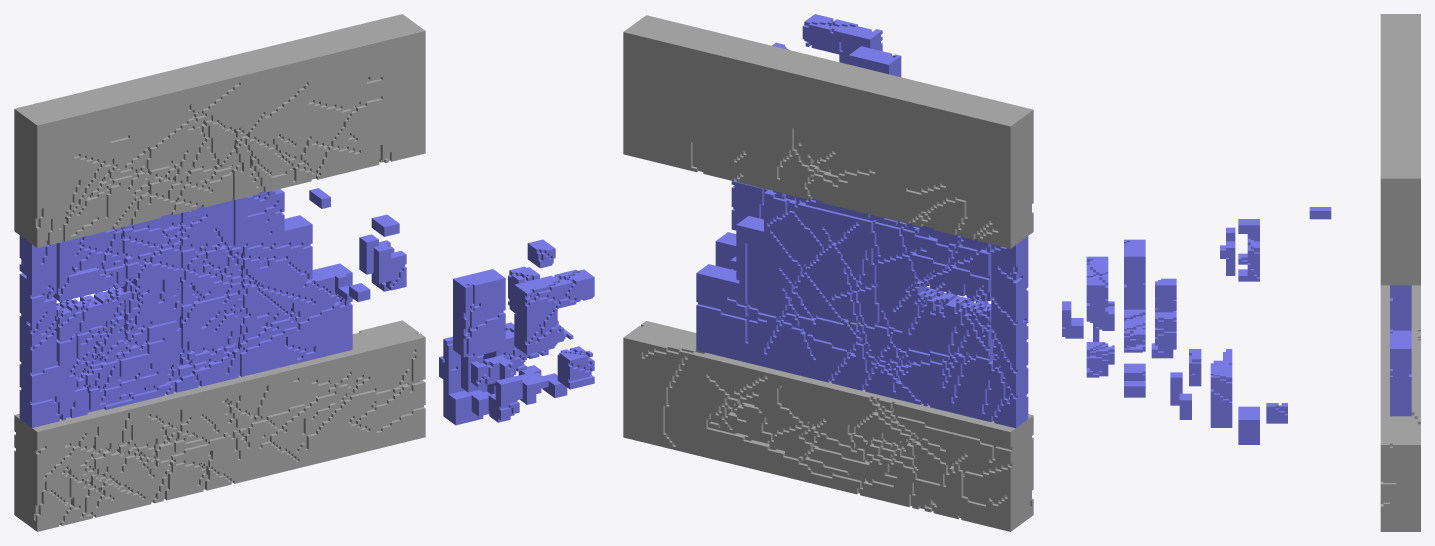
File: Operating_room_Window1-3-1.fbx
3 renders of one model, left to right at view 1: azimuth 30°, elevation 25°; view 2: azimuth 150°, elevation 25°; view 3: azimuth 270°, elevation 25°, orthographic. The views are drawn at different scales.
Visible parts, largest first — view 1: Operating room Window1-3-1.003, Operating room Window1-3-1.002, Operating room Window1-3-1.001, Operating room Window1-3-1.013, Operating room Window1-3-1.019, Operating room Window1-3-1.017, Operating room Window1-3-1.027, Operating room Window1-3-1.007, Operating room Window1-3-1.011, Operating room Window1-3-1.012, Operating room Window1-3-1.008; view 2: Operating room Window1-3-1.003, Operating room Window1-3-1.002, Operating room Window1-3-1.001, Operating room Window1-3-1.019, Operating room Window1-3-1.017, Operating room Window1-3-1.013, Operating room Window1-3-1.025, Operating room Window1-3-1.014; view 3: Operating room Window1-3-1.003, Operating room Window1-3-1.001, Operating room Window1-3-1.013, Operating room Window1-3-1.002, Operating room Window1-3-1.017, Operating room Window1-3-1.019, Operating room Window1-3-1.026, Operating room Window1-3-1.025, Operating room Window1-3-1.027, Operating room Window1-3-1.008, Operating room Window1-3-1.011, Operating room Window1-3-1.022 (+3 smaller).
Boxes of the visible parts, x1,y1,x2,y2 form: Operating room Window1-3-1.003: (14, 14, 425, 247); Operating room Window1-3-1.002: (19, 189, 352, 427); Operating room Window1-3-1.001: (14, 320, 425, 531); Operating room Window1-3-1.013: (453, 269, 573, 385); Operating room Window1-3-1.019: (514, 269, 594, 354); Operating room Window1-3-1.017: (443, 322, 516, 425); Operating room Window1-3-1.027: (557, 346, 594, 389); Operating room Window1-3-1.007: (373, 245, 406, 290); Operating room Window1-3-1.011: (488, 376, 522, 420); Operating room Window1-3-1.012: (471, 355, 513, 386); Operating room Window1-3-1.008: (359, 234, 394, 291); Operating room Window1-3-1.003: (623, 15, 1033, 248); Operating room Window1-3-1.002: (696, 190, 1028, 428); Operating room Window1-3-1.001: (623, 321, 1033, 531); Operating room Window1-3-1.019: (802, 14, 882, 64); Operating room Window1-3-1.017: (731, 180, 767, 230); Operating room Window1-3-1.013: (849, 46, 901, 77); Operating room Window1-3-1.025: (715, 232, 736, 269); Operating room Window1-3-1.014: (696, 265, 730, 294); Operating room Window1-3-1.003: (1380, 14, 1420, 285); Operating room Window1-3-1.001: (1380, 285, 1420, 531); Operating room Window1-3-1.013: (1124, 239, 1145, 352); Operating room Window1-3-1.002: (1390, 292, 1411, 393); Operating room Window1-3-1.017: (1210, 349, 1232, 427); Operating room Window1-3-1.019: (1086, 256, 1108, 322); Operating room Window1-3-1.026: (1155, 298, 1176, 349); Operating room Window1-3-1.025: (1238, 406, 1259, 444); Operating room Window1-3-1.027: (1086, 342, 1108, 377); Operating room Window1-3-1.008: (1238, 234, 1259, 281); Operating room Window1-3-1.011: (1062, 301, 1083, 338); Operating room Window1-3-1.022: (1189, 349, 1201, 386).
Size of the model in its own units: 12.6 by 12.6 by 11.6.
